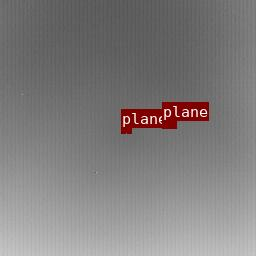plane: (162, 121, 176, 128), (121, 128, 131, 132)
